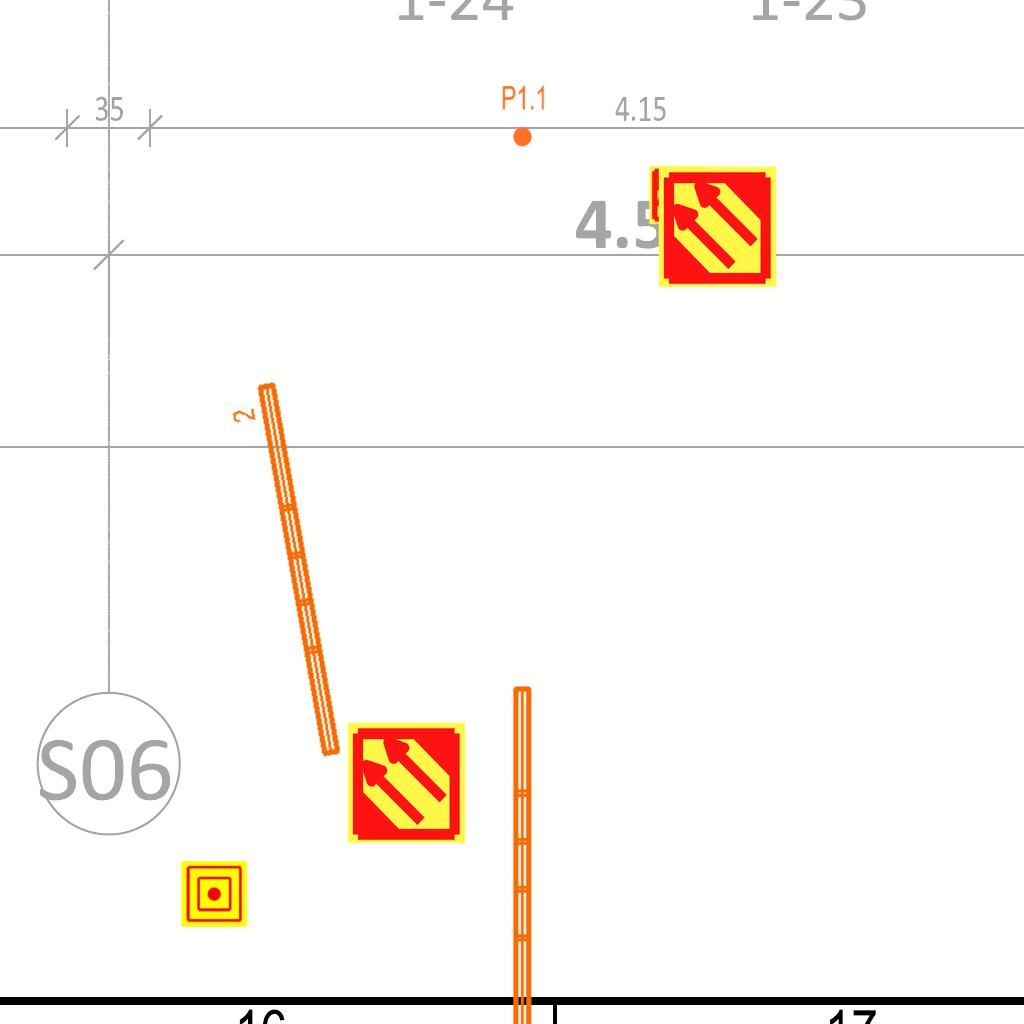ASR_Ansaugrauchmelder: (344, 720, 469, 845), (655, 164, 780, 289), (648, 164, 710, 226)
Ambulanz_Pendelleuchte_LED: (225, 376, 348, 768), (507, 681, 563, 1024)
Downlight_LED_Einbauleuchten_Flur: (501, 84, 547, 148)
NAM-Nichtautomatischer_Melder: (181, 861, 247, 927)
